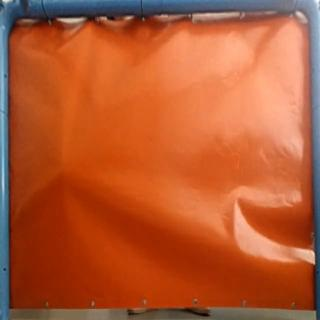Hit-hRxx: (52, 166, 69, 180)
